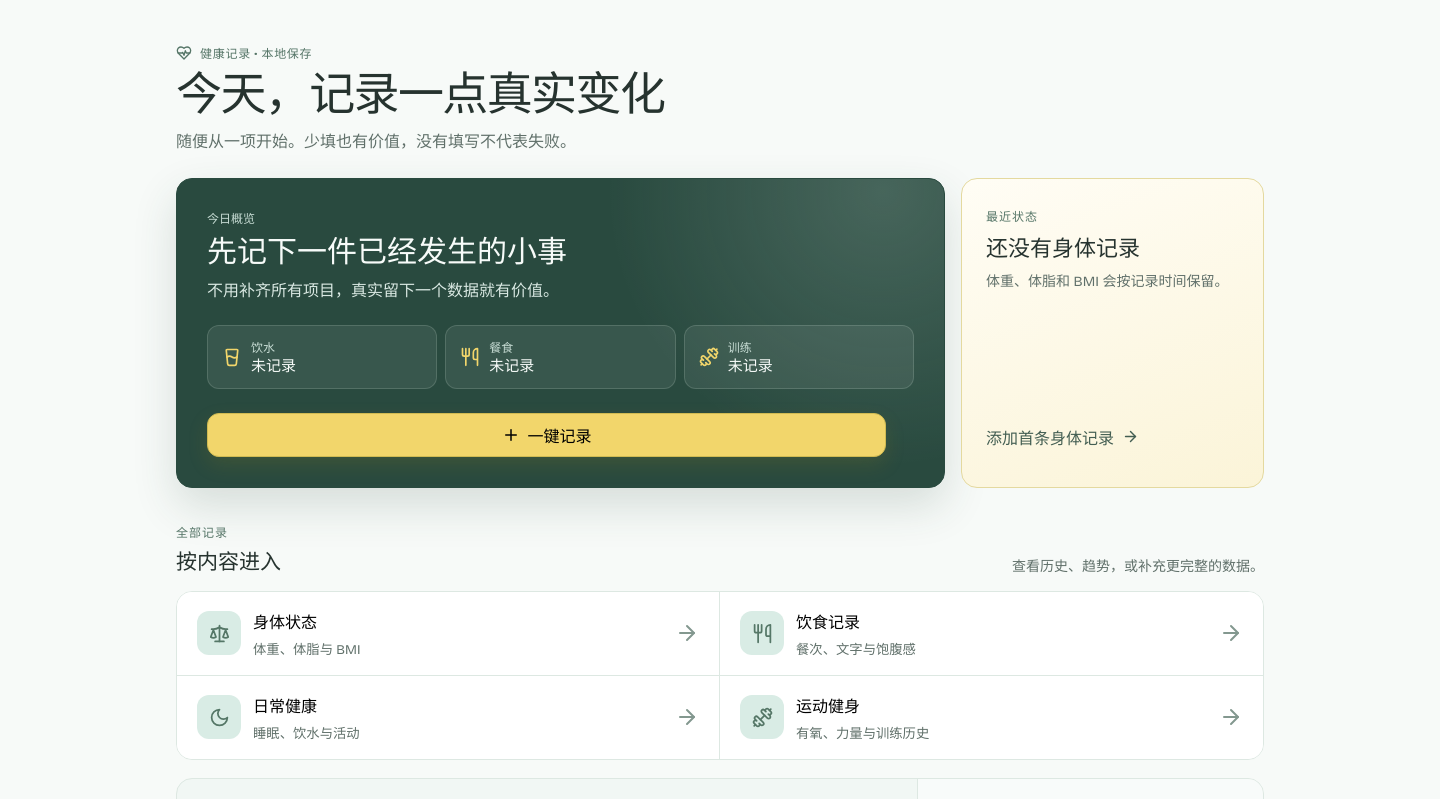
health revision 2083 workspaces › keeps water targets and sedentary reminder settings separate
Click the button "日常健康 睡眠、饮水与活动".
click(219, 717)  # box [177,676,720,759]
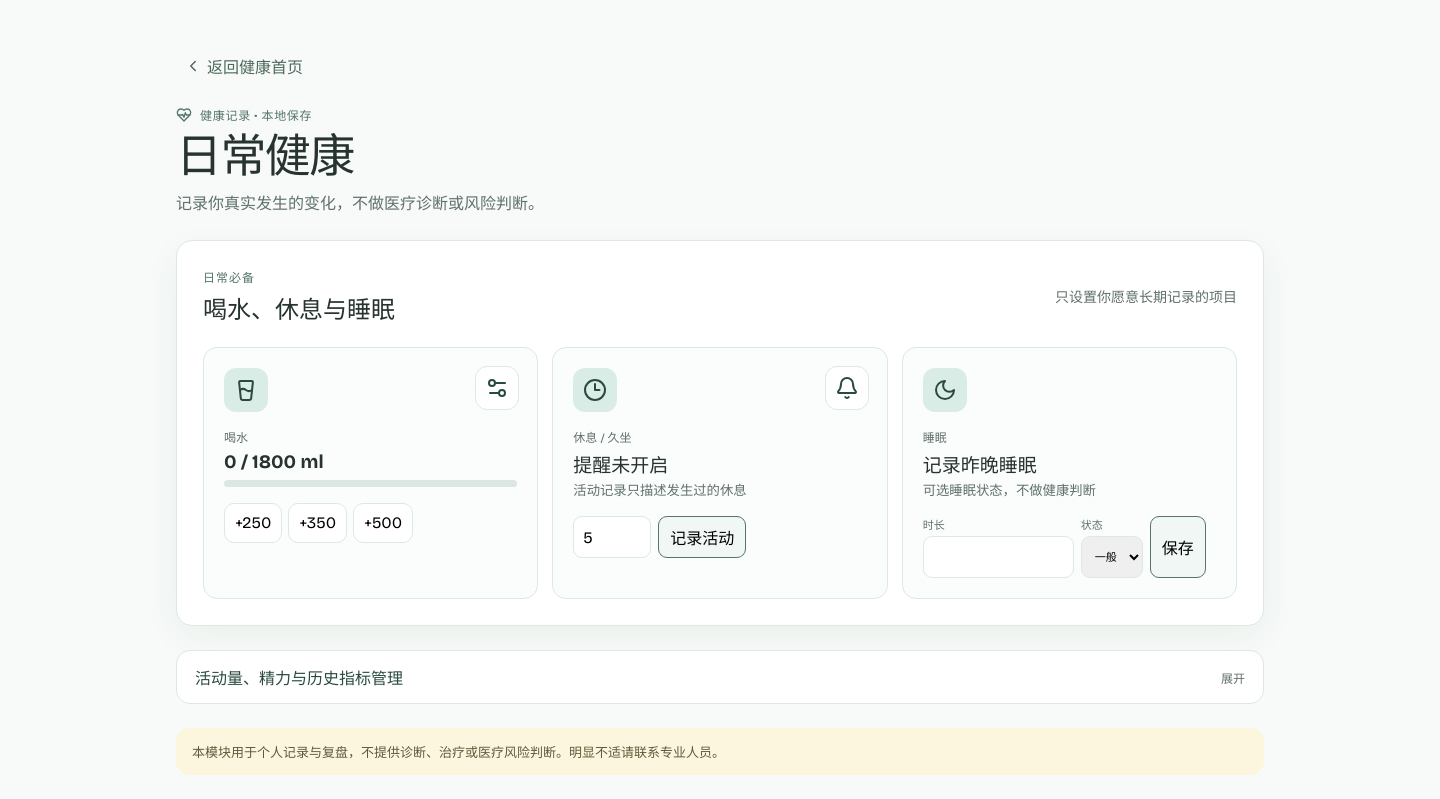
Expected: the heading "喝水、休息与睡眠" is shown, [203,290,395,325]
Click the button named "设置饮水目标和提醒".
click(497, 388)  # box [475,366,519,410]
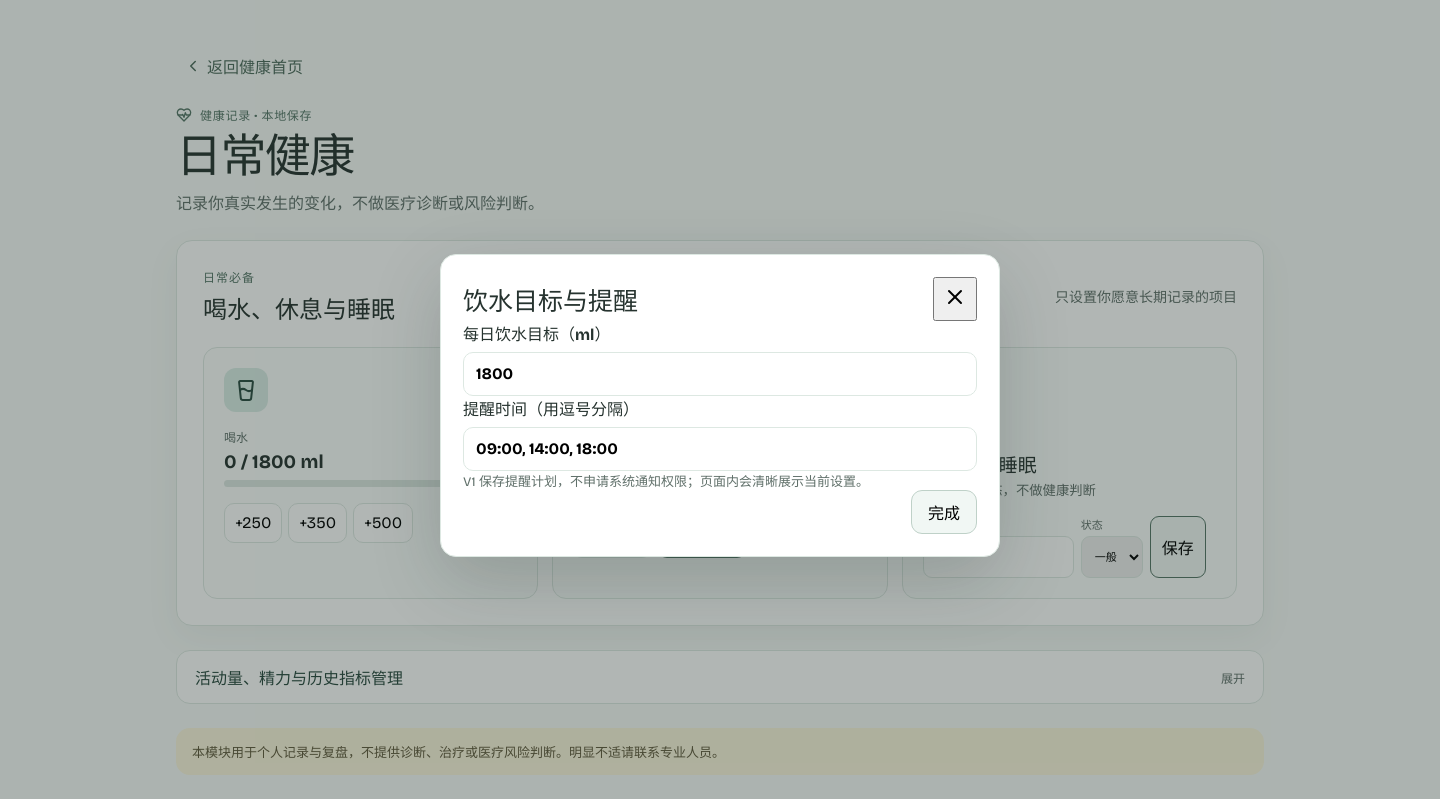
Expected: the dialog "饮水目标与提醒" is shown, [440,254,1000,556]
Click the button "完成".
click(944, 512)  # box [911,490,977,534]
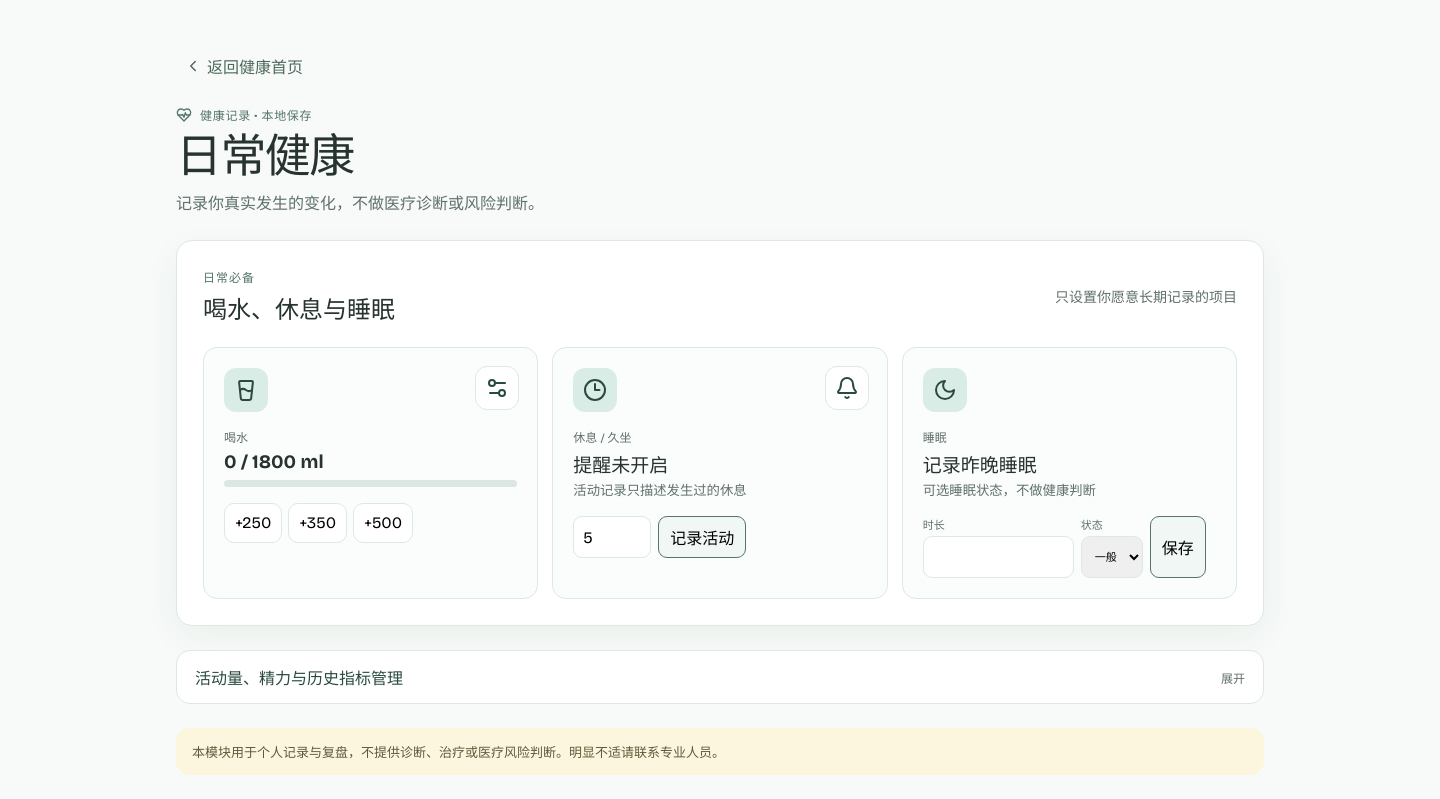
Click the button named "设置久坐提醒".
click(847, 388)  # box [825,366,869,410]
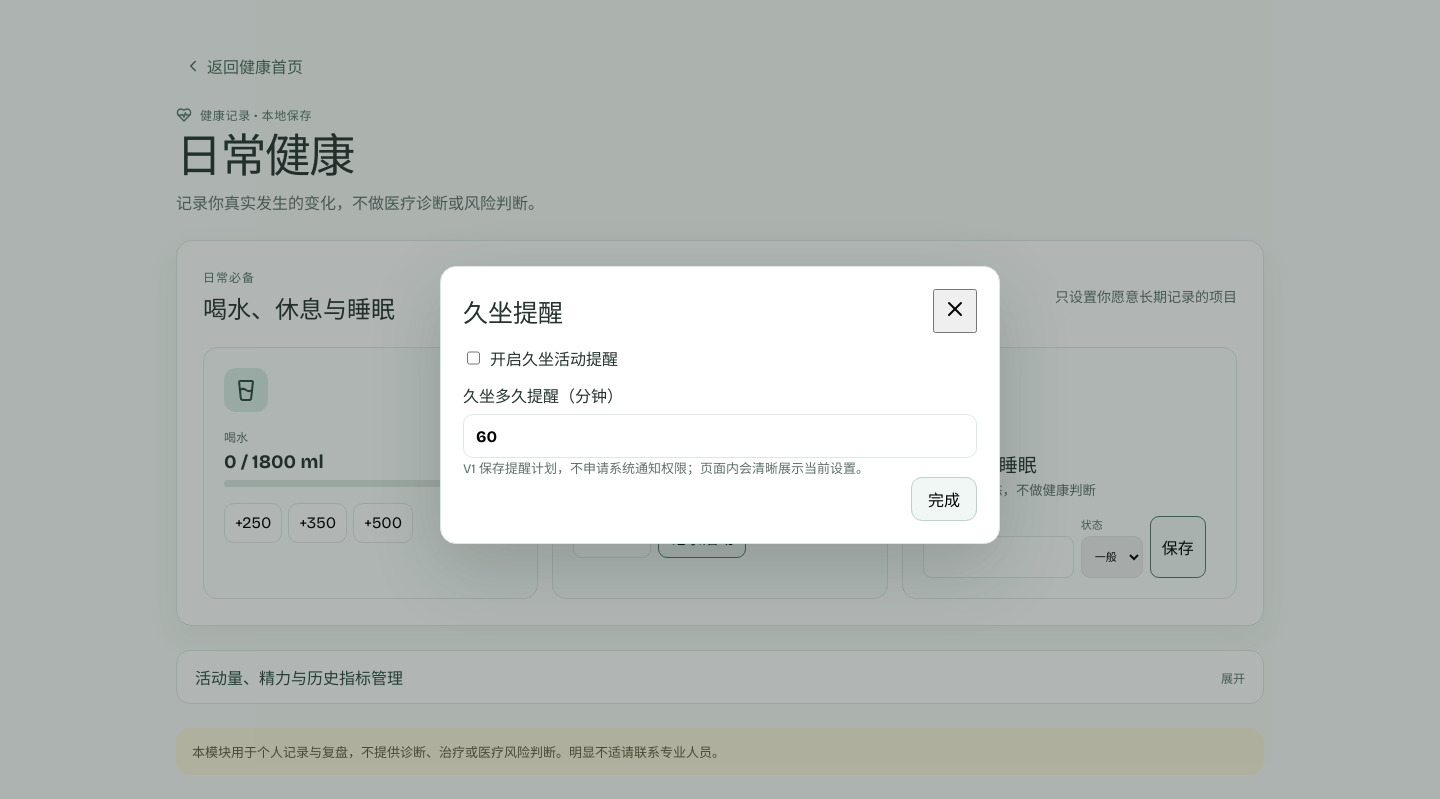
Expected: the dialog "久坐提醒" is shown, [440,266,1000,544]
